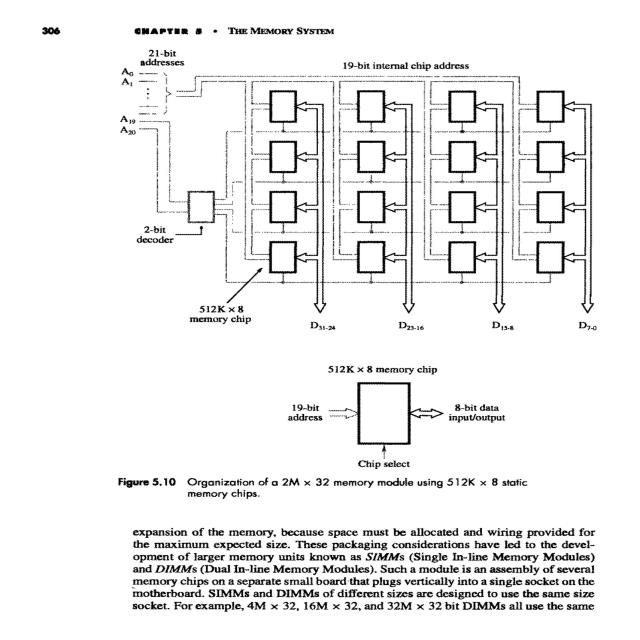diagram: (46, 46, 638, 506)
